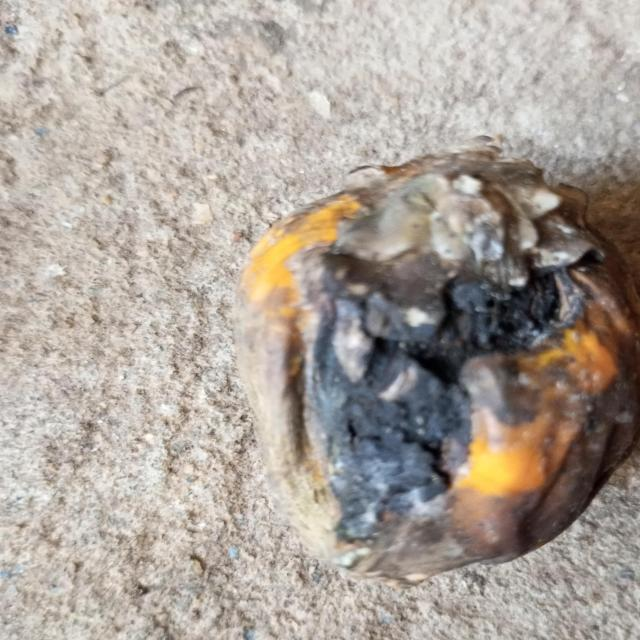damaged: (233, 142, 640, 588)
